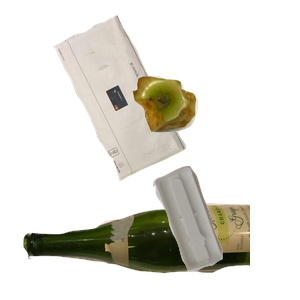glass: (21, 201, 261, 300)
paper: (51, 13, 230, 186)
plastic: (150, 163, 300, 300)
trash: (130, 74, 300, 199)
